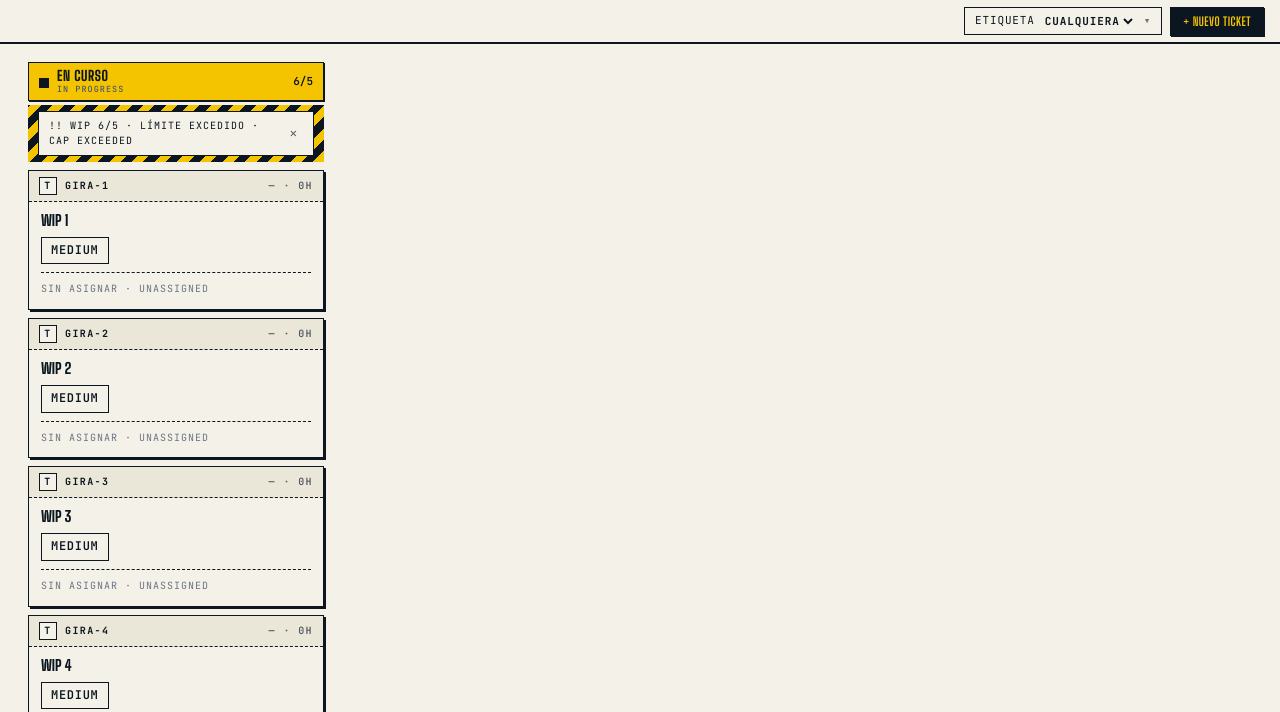
BoardPage › shows the WIP-cap banner when an In Progress column exceeds its limit and dismisses it
Expected: the text "WIP 1" is shown, [41,210,68,228]
Expected: the text "!! WIP 6/5 · límite excedido · cap exceeded" is shown, [49,118,284,148]
Click the button "✕".
click(293, 133)  # box [284,124,303,142]
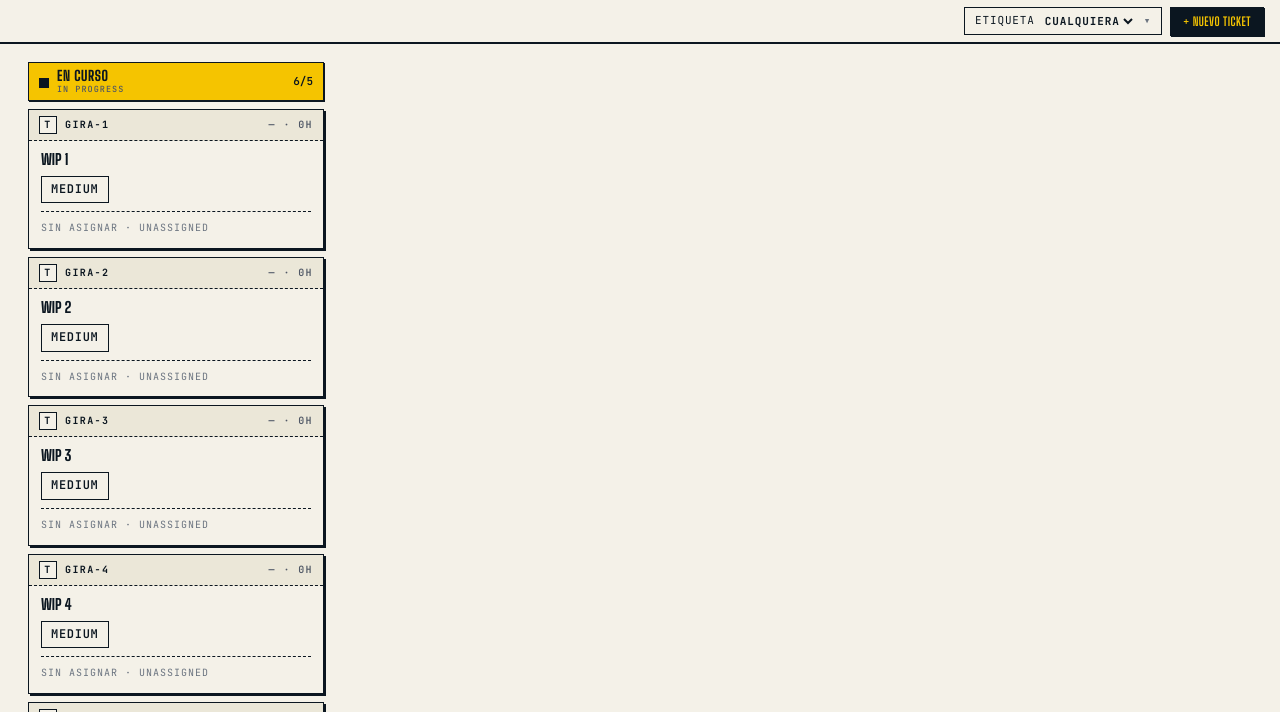
Result: the text "límite excedido · cap exceeded" is gone
